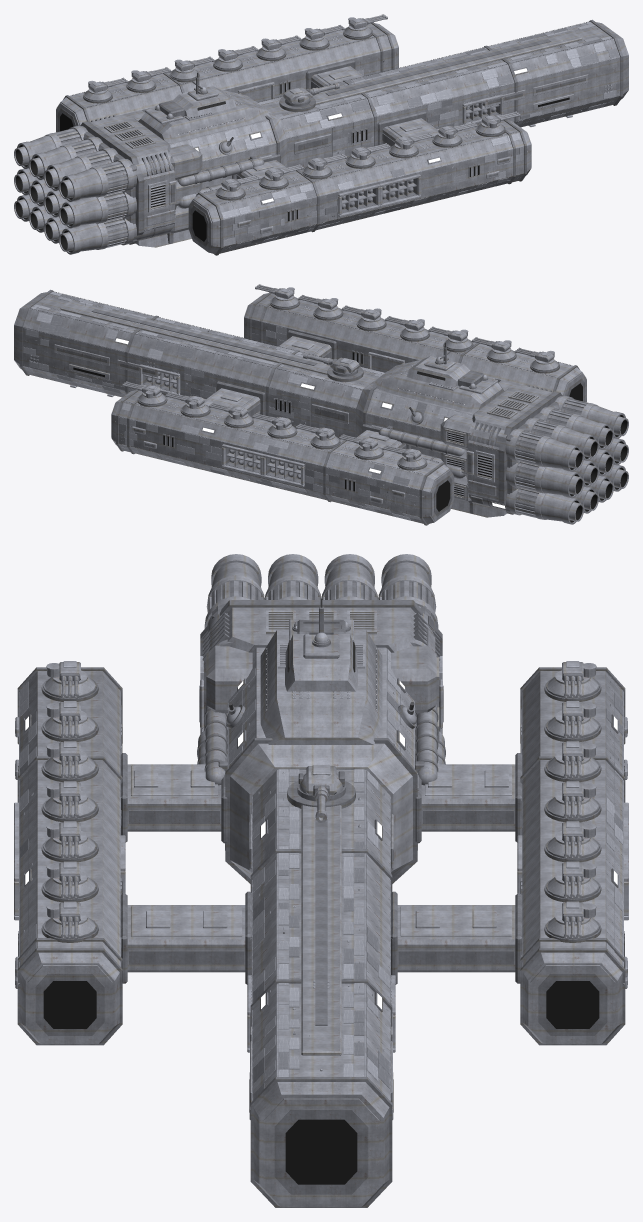
3 renders of one model, top to bottom at view 1: azimuth 30°, elevation 25°; view 2: azimuth 150°, elevation 25°; view 3: azimuth 270°, elevation 25°, orthographic. The views are drawn at different scales.
Visible parts, largest first — view 1: pontoons_pont_mid, hull_hull_mid, citadel_mid, pontoons_dark, citadel_light, engines.thruster.003, hull_mid, engines_mid, hull_dark, engines.thruster.011, engines.thruster.007, engines_dark (+33 smaller); view 2: pontoons_pont_mid, hull_hull_mid, citadel_mid, pontoons_dark, citadel_light, engines.thruster.002, hull_mid, engines_mid, hull_dark, engines.thruster.010, engines.thruster.006, engines_dark (+33 smaller); view 3: pontoons_pont_mid, hull_hull_mid, pontoons_dark, pontoons_mid, citadel_light, citadel_mid, hull_mid, pontoons_light, hull_dark, engines.thruster.002, engines.thruster.003, engines_mid (+22 smaller).
Part boxes in pixels (x1,y1,x2,y2): pontoons_pont_mid: (57,23,531,253); hull_hull_mid: (259,21,628,167); citadel_mid: (135,87,270,247); pontoons_dark: (58,22,526,255); citadel_light: (136,86,286,188); engines.thruster.003: (59,144,202,201); hull_mid: (294,30,582,154); engines_mid: (82,115,176,240); hull_dark: (298,19,623,150); engines.thruster.011: (59,206,188,254); engines.thruster.007: (59,179,202,228); engines_dark: (79,114,175,244); pontoons_pont_mid: (111,293,585,523); hull_hull_mid: (14,291,383,437); citadel_mid: (372,357,507,517); pontoons_dark: (116,292,584,525); citadel_light: (356,356,506,458); engines.thruster.002: (440,414,583,471); hull_mid: (60,300,348,424); engines_mid: (466,385,560,510); hull_dark: (19,289,344,420); engines.thruster.010: (454,476,583,524); engines.thruster.006: (440,449,583,498); engines_dark: (467,384,563,514); pontoons_pont_mid: (19,671,623,1043); hull_hull_mid: (252,770,390,1207); pontoons_dark: (15,667,627,1045); pontoons_mid: (18,724,624,1042); citadel_light: (224,634,418,878); citadel_mid: (198,619,444,850); hull_mid: (249,805,393,1204); pontoons_light: (15,717,627,988); hull_dark: (245,819,397,1207); engines.thruster.002: (378,554,439,713); engines.thruster.003: (204,554,264,713); engines_mid: (200,607,442,733).
Bounding box in the file's own units: 1000 × 256 × 491.
7 materials, 4 textured.
